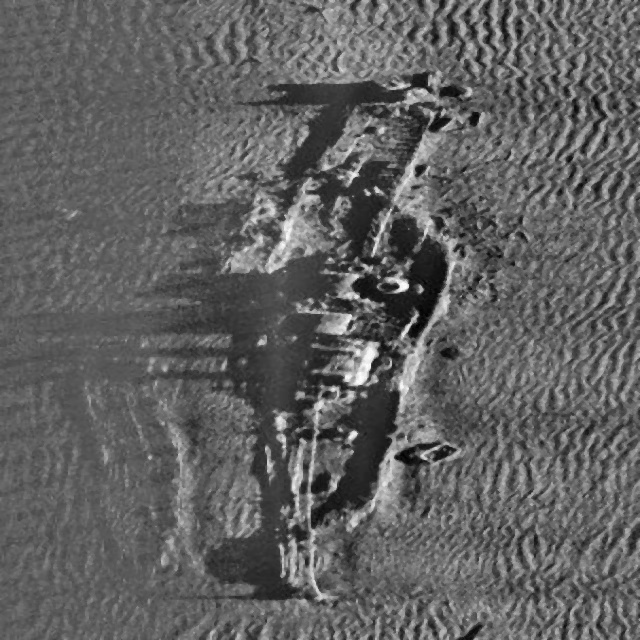Ship: (195, 61, 489, 616)
